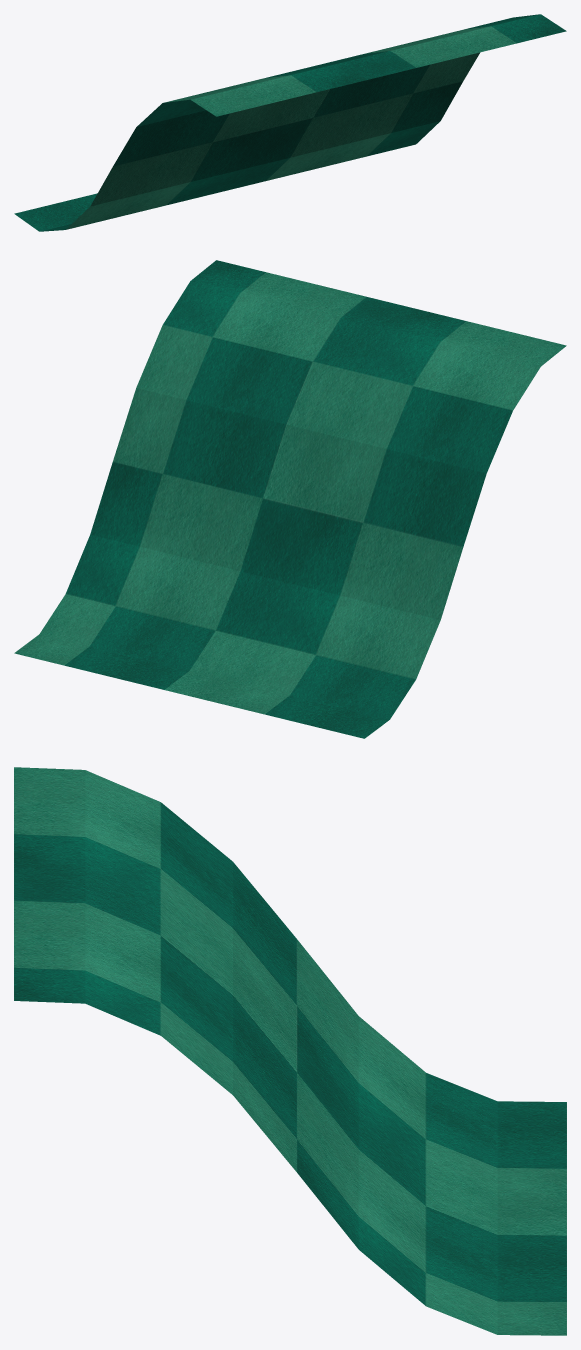
File: PartSlope.gltf
The picture shows the model from 3 angles, top to bottom: view 1: azimuth 30°, elevation 25°; view 2: azimuth 150°, elevation 25°; view 3: azimuth 270°, elevation 25°; orthographic projection. The views are drawn at different scales.
Visible parts, largest first — view 1: PartSlope_glb; view 2: PartSlope_glb; view 3: PartSlope_glb.
Boxes of the visible parts, x1=… form: PartSlope_glb: x1=14, y1=14, x2=566, y2=231; PartSlope_glb: x1=14, y1=260, x2=566, y2=738; PartSlope_glb: x1=14, y1=767, x2=566, y2=1335.
Size of what is drawn, in the model's own units: 4 by 2.67 by 4.
1 material, 1 textured.
